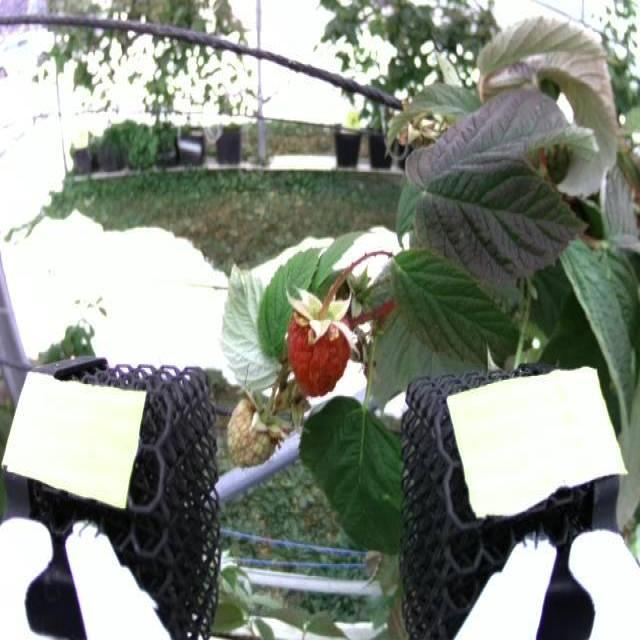Riped berries: (282, 280, 359, 395)
